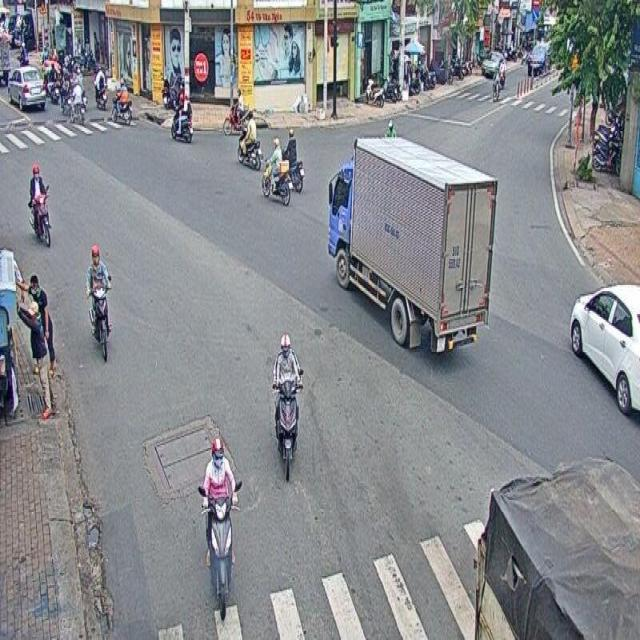car: (566, 278, 638, 418)
motorcycle: (197, 431, 240, 620), (274, 330, 300, 476), (85, 241, 114, 361), (28, 166, 54, 250), (262, 136, 290, 206), (237, 110, 265, 174), (278, 126, 304, 192), (169, 88, 194, 144)
truck: (329, 123, 505, 360)
